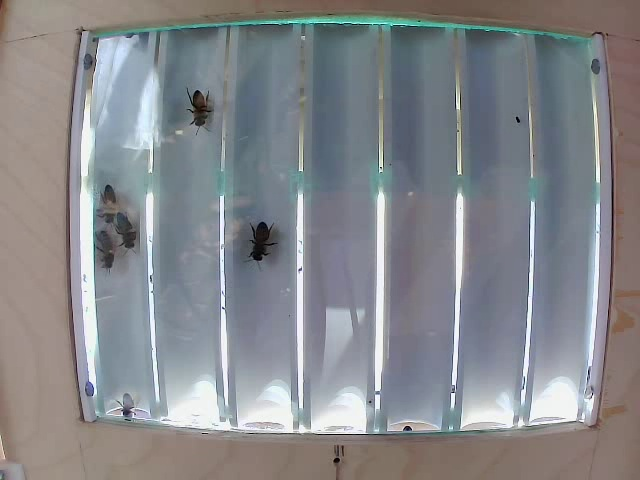bee: (243, 208, 284, 265), (187, 91, 224, 134), (87, 226, 113, 271), (111, 209, 143, 244), (90, 187, 124, 217)
